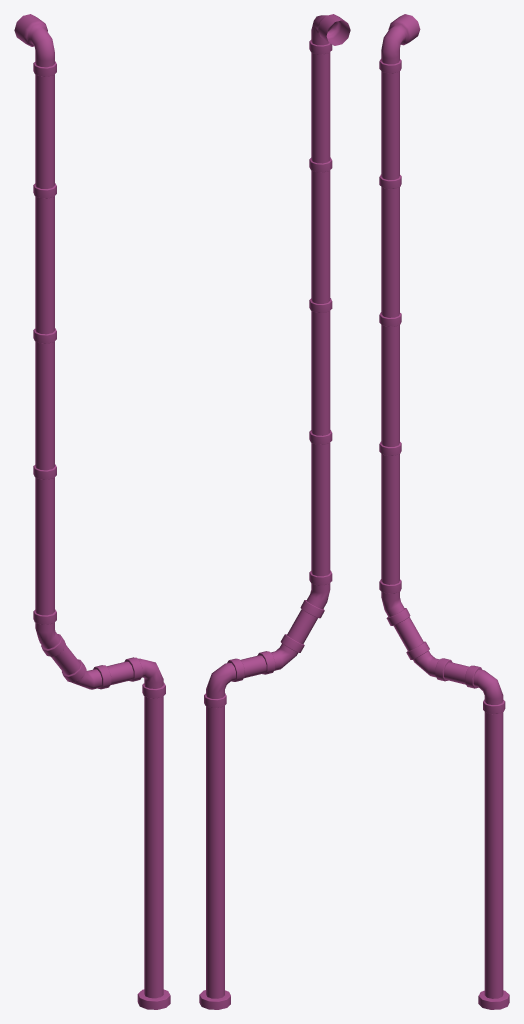
Rendered from Pipe_XL.fbx.
3 views of the same model, side by side, from view 1: azimuth 30°, elevation 25°; view 2: azimuth 210°, elevation 25°; view 3: azimuth 330°, elevation 25° (orthographic). The views are drawn at different scales.
Visible parts, largest first — view 1: Pipe_XL; view 2: Pipe_XL; view 3: Pipe_XL.
Boxes of the visible parts, box(x1,y1,x2,y2) form: Pipe_XL: box(14, 14, 170, 1009); Pipe_XL: box(199, 14, 350, 1009); Pipe_XL: box(379, 14, 509, 1009).
Size of the model in its own units: 190 by 64.51 by 1345.
